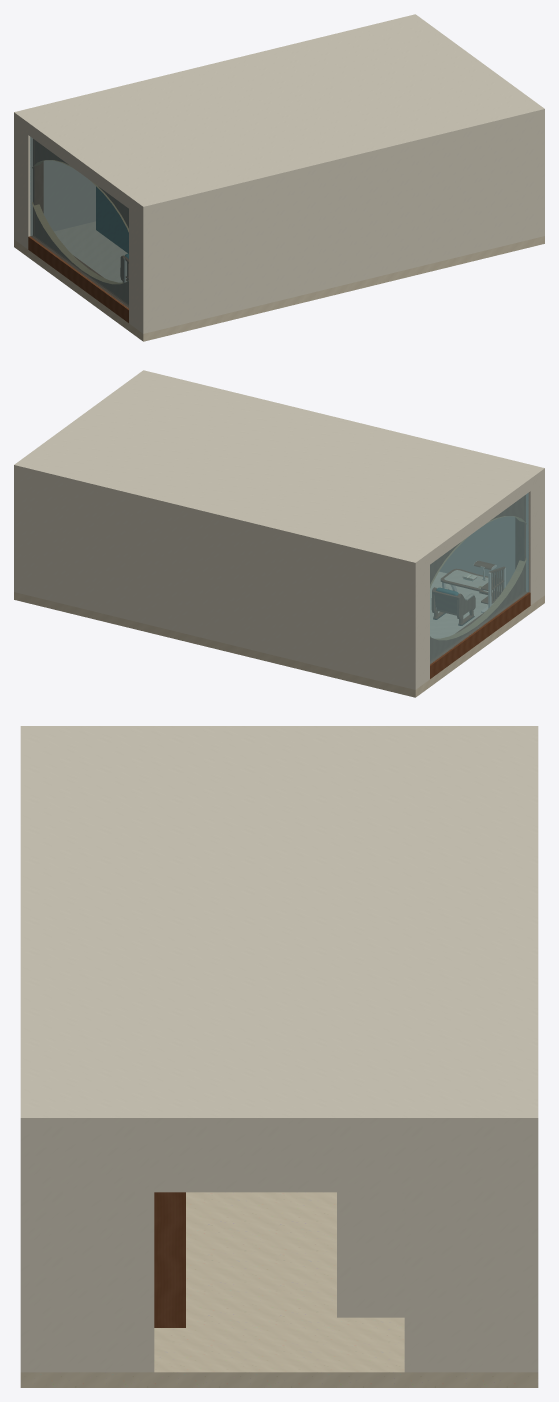
The model's file is QuietGroveBank_391_r001.glb.
3 renders of one model, top to bottom at view 1: azimuth 30°, elevation 25°; view 2: azimuth 150°, elevation 25°; view 3: azimuth 270°, elevation 25°, orthographic. The views are drawn at different scales.
Visible parts, largest first — view 1: QG391_Ceiling, QG391_NorthSide, QGB391_PrivateCourtGlass, QG391_RoomFloor, QG391_SouthSide, QGB391_CourtSouthPier, QGB391_CourtNorthPier, QGB391_CourtSill, QG391_OvalWindowReveal, QG391_Cocoon02_RearLiner, QG391_OvalDepthReturn, QGB391_CourtHeader (+1 smaller); view 2: QG391_Ceiling, QG391_SouthSide, QGB391_PrivateCourtGlass, QG391_RoomFloor, QG391_NorthSide, QGB391_CourtNorthPier, QGB391_CourtSouthPier, QGB391_CourtSill, QG391_OvalWindowReveal, QG391_OvalDepthReturn, QGB391_CourtHeader, QGB391_DeepReveal_-475.8 (+1 smaller); view 3: QG391_Ceiling, QG391_RoomFloor, QG391_EntryShoulderSouth, QG391_EntryShoulderNorth, QG391_EntryHeader, QG391_WashEntrySide, QG391_EntryPrivacyDogleg, QG391_NorthSide, QG391_SouthSide.
Boxes of the visible parts, x1,y1,x2,y2 form: QG391_Ceiling: [14, 14, 544, 211]; QG391_NorthSide: [141, 114, 544, 333]; QGB391_PrivateCourtGlass: [30, 136, 128, 308]; QG391_RoomFloor: [14, 221, 544, 341]; QG391_SouthSide: [14, 117, 95, 240]; QGB391_CourtSouthPier: [129, 202, 150, 333]; QGB391_CourtNorthPier: [14, 119, 32, 249]; QGB391_CourtSill: [28, 236, 128, 322]; QG391_OvalWindowReveal: [35, 140, 128, 304]; QG391_Cocoon02_RearLiner: [97, 188, 128, 253]; QG391_OvalDepthReturn: [32, 160, 128, 283]; QGB391_CourtHeader: [28, 128, 128, 208]; QG391_Ceiling: [14, 370, 544, 567]; QG391_SouthSide: [14, 470, 416, 689]; QGB391_PrivateCourtGlass: [430, 493, 528, 664]; QG391_RoomFloor: [14, 572, 544, 697]; QG391_NorthSide: [439, 474, 544, 591]; QGB391_CourtNorthPier: [408, 558, 429, 689]; QGB391_CourtSouthPier: [526, 474, 544, 605]; QGB391_CourtSill: [430, 592, 530, 678]; QG391_OvalWindowReveal: [430, 496, 523, 660]; QG391_OvalDepthReturn: [430, 516, 526, 639]; QGB391_CourtHeader: [430, 484, 530, 564]; QGB391_DeepReveal_-475.8: [515, 495, 525, 591]; QG391_Ceiling: [20, 726, 538, 1128]; QG391_RoomFloor: [20, 1192, 538, 1387]; QG391_EntryShoulderSouth: [404, 1128, 529, 1372]; QG391_EntryShoulderNorth: [29, 1128, 154, 1372]; QG391_EntryHeader: [150, 1128, 408, 1192]; QG391_WashEntrySide: [337, 1192, 404, 1317]; QG391_EntryPrivacyDogleg: [154, 1192, 185, 1327]; QG391_NorthSide: [20, 1128, 29, 1372]; QG391_SouthSide: [529, 1128, 538, 1372].
Size of the model in its own units: 12.9 by 4.14 by 7.2.
67 materials, 43 textured.
